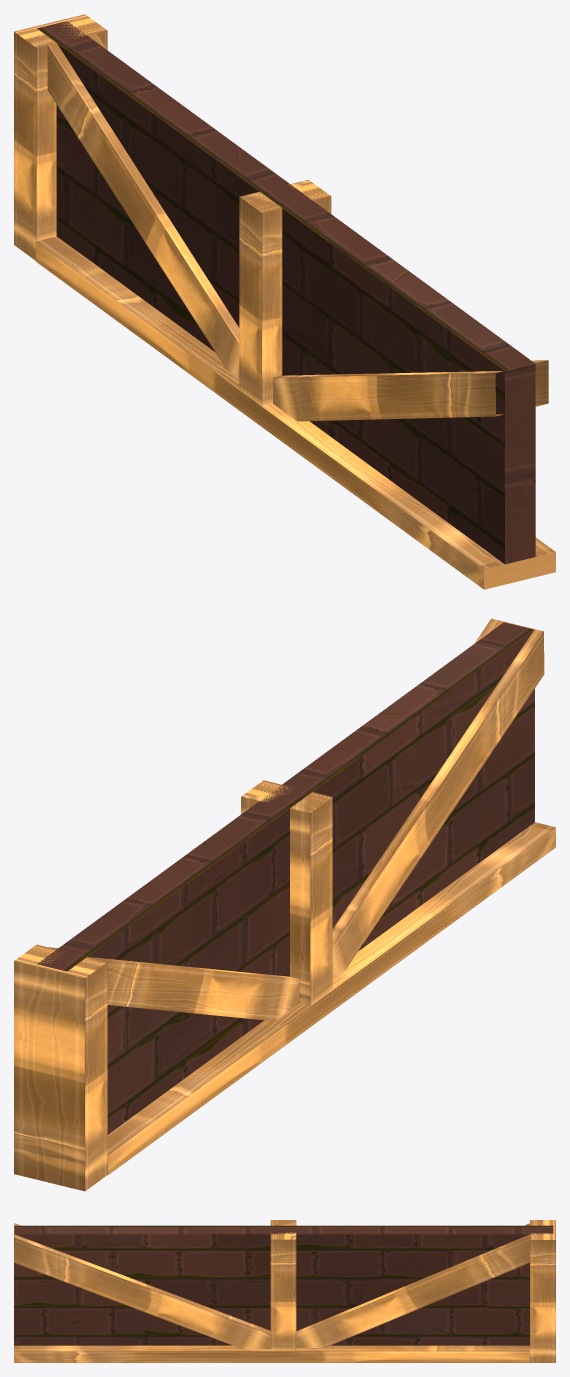
Rendered from SM_Small_Horizontal_Wall_02.fbx.
The picture shows the model from 3 angles, top to bottom: view 1: azimuth 30°, elevation 25°; view 2: azimuth 150°, elevation 25°; view 3: azimuth 270°, elevation 25°; orthographic projection. The views are drawn at different scales.
Parts seen in each view (by area): view 1: SM_Small_Horizontal_Wall_02; view 2: SM_Small_Horizontal_Wall_02; view 3: SM_Small_Horizontal_Wall_02.
Part boxes in pixels (x1,y1,x2,y2): SM_Small_Horizontal_Wall_02: [14, 14, 555, 589]; SM_Small_Horizontal_Wall_02: [14, 618, 555, 1191]; SM_Small_Horizontal_Wall_02: [14, 1220, 555, 1362].
Bounding box in the file's own units: 35.24 × 100 × 400.
